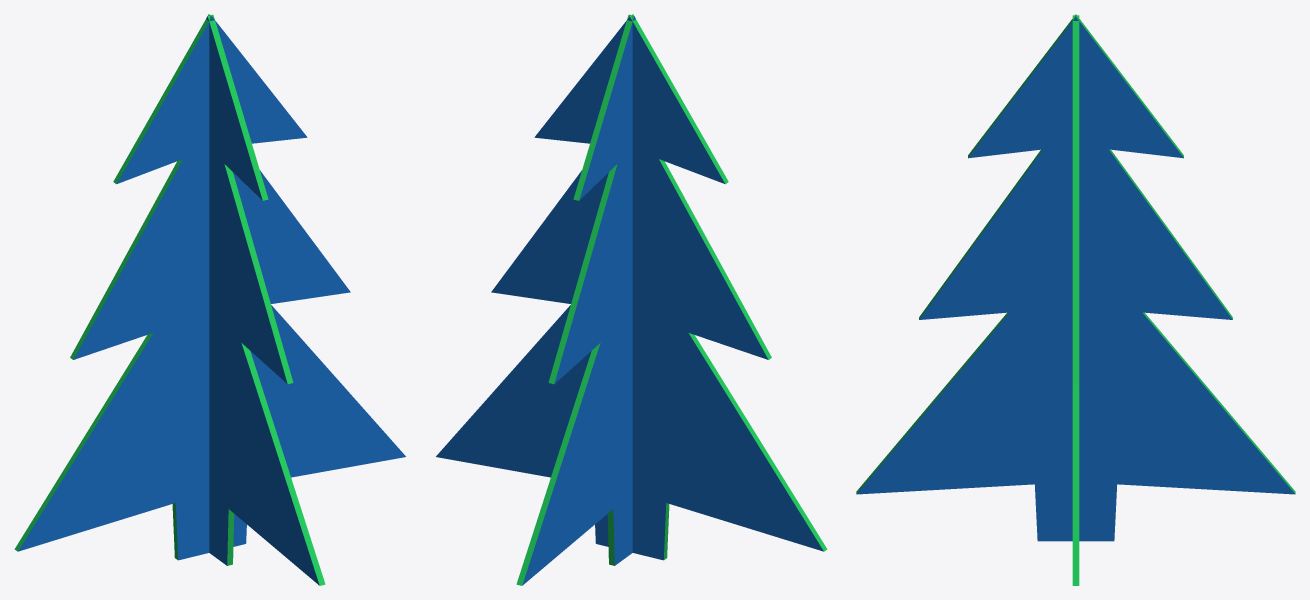
Rendered from SM_plywood_fence_3.fbx.
3 renders of one model, left to right at view 1: azimuth 30°, elevation 25°; view 2: azimuth 150°, elevation 25°; view 3: azimuth 270°, elevation 25°, orthographic. The views are drawn at different scales.
Parts seen in each view (by area): view 1: Extrude; view 2: Extrude; view 3: Extrude.
Boxes of the visible parts, <box> form: Extrude: <box>14,14,405,585</box>; Extrude: <box>436,14,827,585</box>; Extrude: <box>856,14,1295,585</box>.
Bounding box in the file's own units: 268 × 354 × 268.
